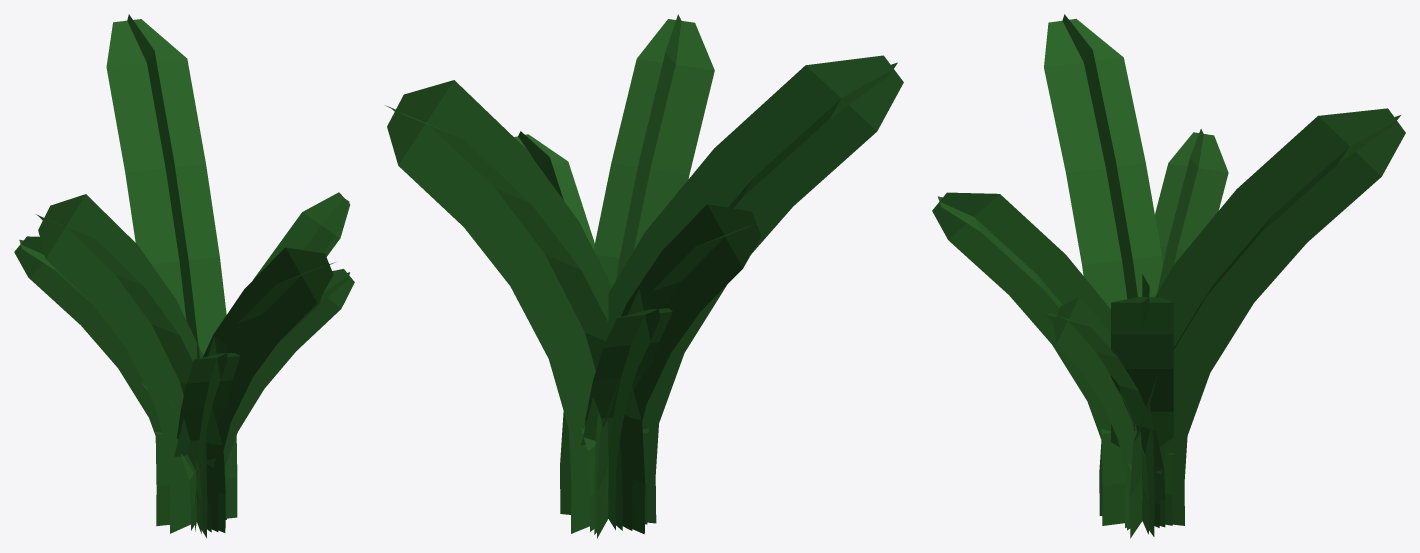
The model's file is Tundra_Bush_Small_02.fbx.
The picture shows the model from 3 angles, left to right: view 1: azimuth 30°, elevation 25°; view 2: azimuth 150°, elevation 25°; view 3: azimuth 270°, elevation 25°; orthographic projection. The views are drawn at different scales.
Parts seen in each view (by area): view 1: Plane.008; view 2: Plane.008; view 3: Plane.008.
Part boxes in pixels (bbox=[...]): Plane.008: bbox=[14, 14, 354, 538]; Plane.008: bbox=[385, 14, 903, 538]; Plane.008: bbox=[932, 14, 1405, 538].
Bounding box in the file's own units: 154 × 171 × 168.
